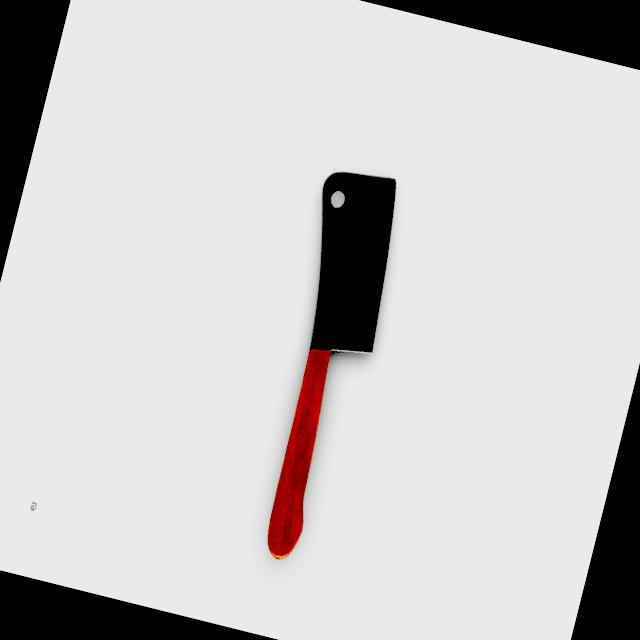cleaver: (234, 162, 407, 566)
